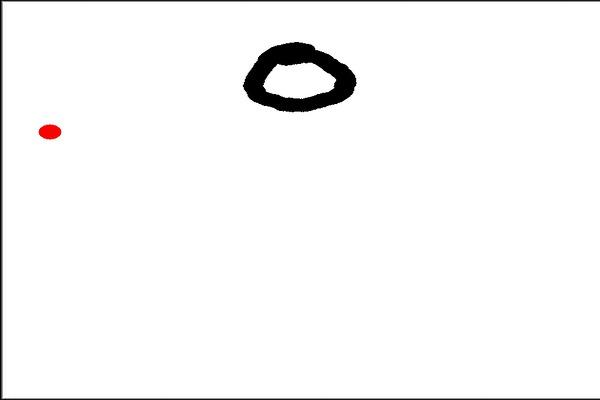O: (230, 32, 364, 117)
